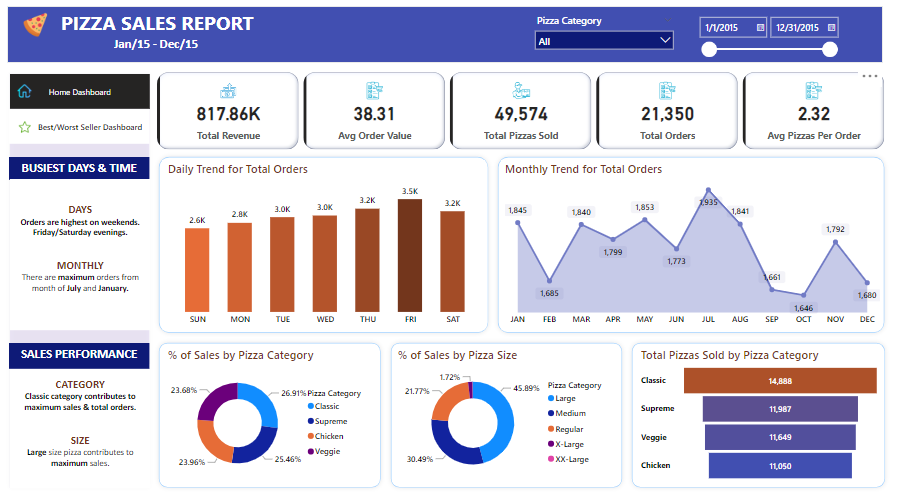

This screenshot's page, from the dashboard's own definition file:
{"tool":"powerbi","page":{"name":"Home Dashboard","canvas":[1500,820],"ordinal":0},"visuals":[{"type":"shape","box":[11.8,114.7,248.5,705.9],"z":0},{"type":"cardVisual","fields":{"Data":["pizza_sales.Total_Revenue","pizza_sales.Avg_Order_Value","pizza_sales.Total_Pizzas_Sold","pizza_sales.Total_Orders","pizza_sales.Avg_Pizzas_Per_Order"]},"box":[260.3,114.3,1225.4,139.7],"z":1000},{"type":"shape","box":[14.3,9.5,1460.3,95.2],"z":2000},{"type":"textbox","box":[100,9.5,354,61.9],"z":3000},{"type":"textbox","box":[188.9,55.6,177.8,41.3],"z":4000},{"type":"image","box":[36.5,14.3,50.8,54],"z":5000},{"type":"shape","box":[260.3,254,565.1,309.5],"z":6000},{"type":"columnChart","title":"Daily Trend for Total Orders","fields":{"Category":["pizza_sales.Order Day"],"Y":["pizza_sales.Total Orders"]},"box":[277.8,268.3,534.9,282.5],"z":7000},{"type":"shape","box":[825.4,254,660.3,309.5],"z":8000},{"type":"areaChart","title":"Monthly Trend for Total Orders","fields":{"Category":["pizza_sales.Order Month"],"Y":["pizza_sales.Total Orders"]},"box":[839.7,268.3,634.9,282.5],"z":9000},{"type":"shape","box":[260.3,563.5,385.7,257.1],"z":10000},{"type":"shape","box":[646,563.5,401.6,257.1],"z":11000},{"type":"shape","box":[1047.6,563.5,438.1,257.1],"z":12000},{"type":"donutChart","title":"% of Sales by Pizza Category","fields":{"Category":["pizza_sales.pizza_category"],"Y":["pizza_sales.Total Revenue"]},"box":[277.8,577.8,354,228.6],"z":13000},{"type":"donutChart","title":"% of Sales by Pizza Size","fields":{"Y":["pizza_sales.Total Revenue"],"Category":["pizza_sales.pizza_size"]},"box":[661.9,577.8,371.4,228.6],"z":14000},{"type":"funnel","title":"Total Pizzas Sold by Pizza Category","fields":{"Category":["pizza_sales.pizza_category"],"Y":["pizza_sales.Total Pizzas Sold"]},"box":[1066.7,577.8,407.9,228.6],"z":15000},{"type":"textbox","box":[19.1,260.9,233.6,38.2],"z":16000},{"type":"textbox","box":[19.3,298.7,234,252],"z":17000},{"type":"textbox","box":[19.3,606.7,234,207.3],"z":19000},{"type":"textbox","box":[19.1,570.9,233.6,42.7],"z":20000},{"type":"slicer","fields":{"Values":["pizza_sales.pizza_category"]},"box":[885.7,19,250.8,77.8],"z":22000},{"type":"slicer","fields":{"Values":["pizza_sales.order_date"]},"box":[1157.1,19,250.8,95.2],"z":23000},{"type":"pageNavigator","box":[19.2,123.3,233.8,58],"z":23001},{"type":"pageNavigator","box":[18.6,181.4,234.3,58.6],"z":23002},{"type":"image","box":[27,135,35,33],"z":23003},{"type":"image","box":[26,196,36,30],"z":23004}]}

Visuals, with their boxes in screenshot pixels (x1, y1, x2, y2), scaled from the page's 1500x820 canvas onto the 897x492 screenshot:
shape: 7:69:156:491
cardVisual - pizza_sales.Total_Revenue x pizza_sales.Avg_Order_Value: 156:69:888:152
shape: 9:6:882:63
textbox: 60:6:271:43
textbox: 113:33:219:58
image: 22:9:52:41
shape: 156:152:494:338
"Daily Trend for Total Orders" columnChart: 166:161:486:330
shape: 494:152:888:338
"Monthly Trend for Total Orders" areaChart: 502:161:882:330
shape: 156:338:386:491
shape: 386:338:626:491
shape: 626:338:888:491
"% of Sales by Pizza Category" donutChart: 166:347:378:484
"% of Sales by Pizza Size" donutChart: 396:347:618:484
"Total Pizzas Sold by Pizza Category" funnel: 638:347:882:484
textbox: 11:157:151:179
textbox: 12:179:151:330
textbox: 12:364:151:488
textbox: 11:343:151:368
slicer - pizza_sales.pizza_category: 530:11:680:58
slicer - pizza_sales.order_date: 692:11:842:69
pageNavigator: 11:74:151:109
pageNavigator: 11:109:151:144
image: 16:81:37:101
image: 16:118:37:136
